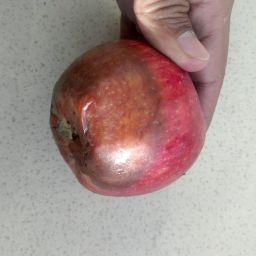apple: (42, 4, 220, 227)
